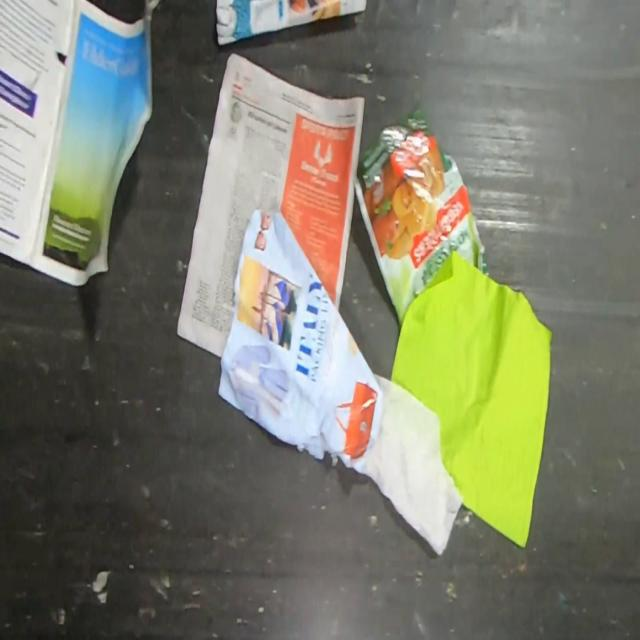soft_plastic: (352, 108, 490, 326)
